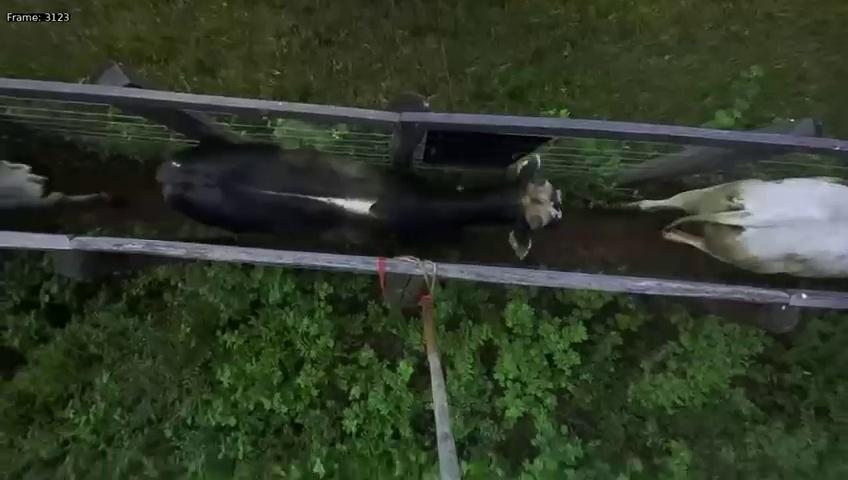cattle: (151, 132, 566, 263)
